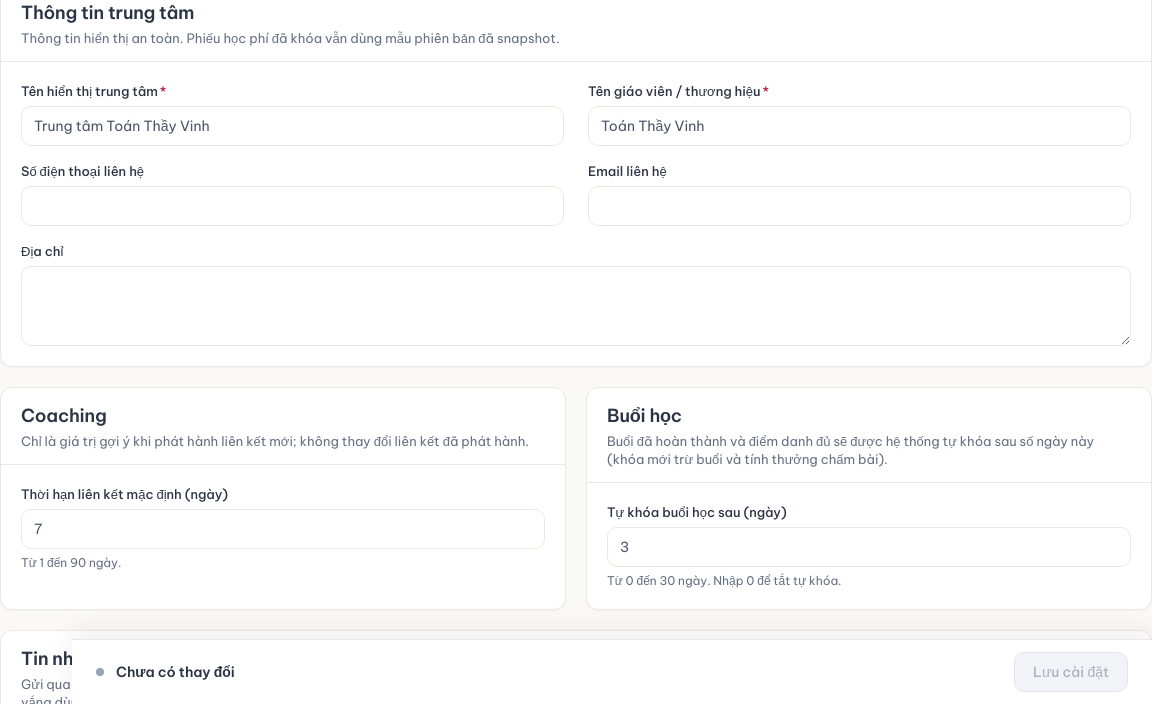
SystemSettingsForm › sends typed safe values and shows the server result
The width and height of the screenshot is (1152, 704).
Replace the text in the field labelled "Tên hiển thị trung tâm" with "Trung tâm QA" at (292, 126), box left=21, top=106, right=564, bottom=146
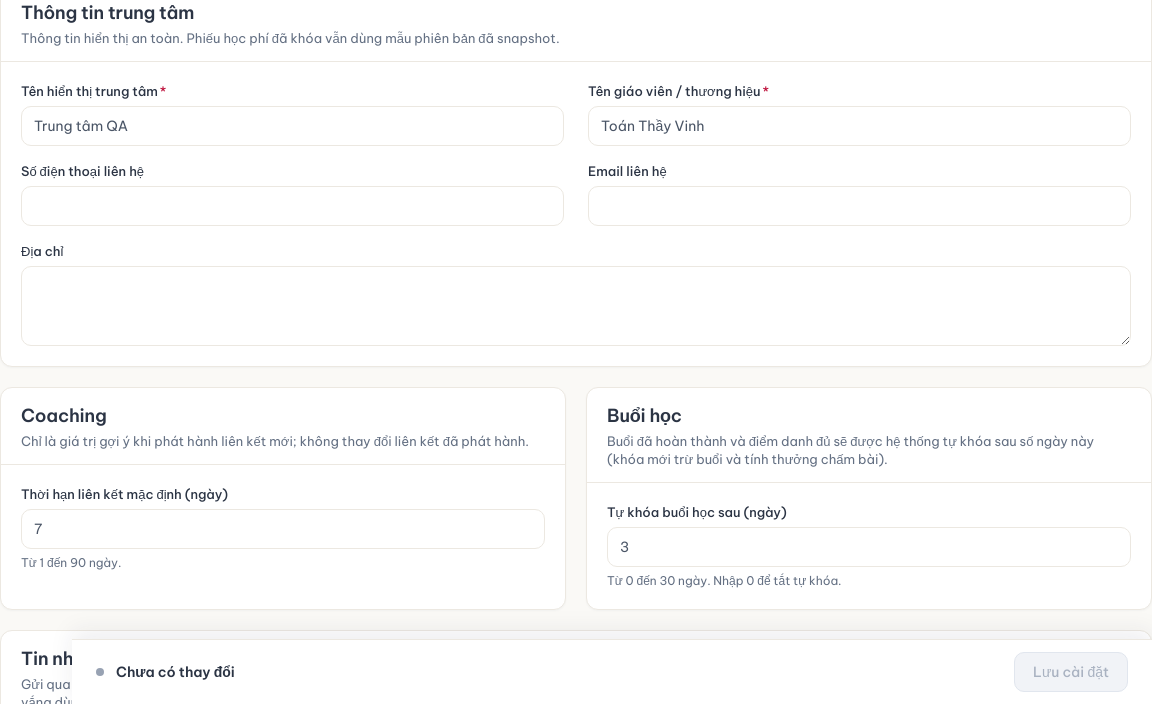
Replace the text in the number field labelled "Thời hạn liên kết mặc định (ngày)" with "14" at (283, 529), box left=21, top=509, right=545, bottom=549
(page scrolled)
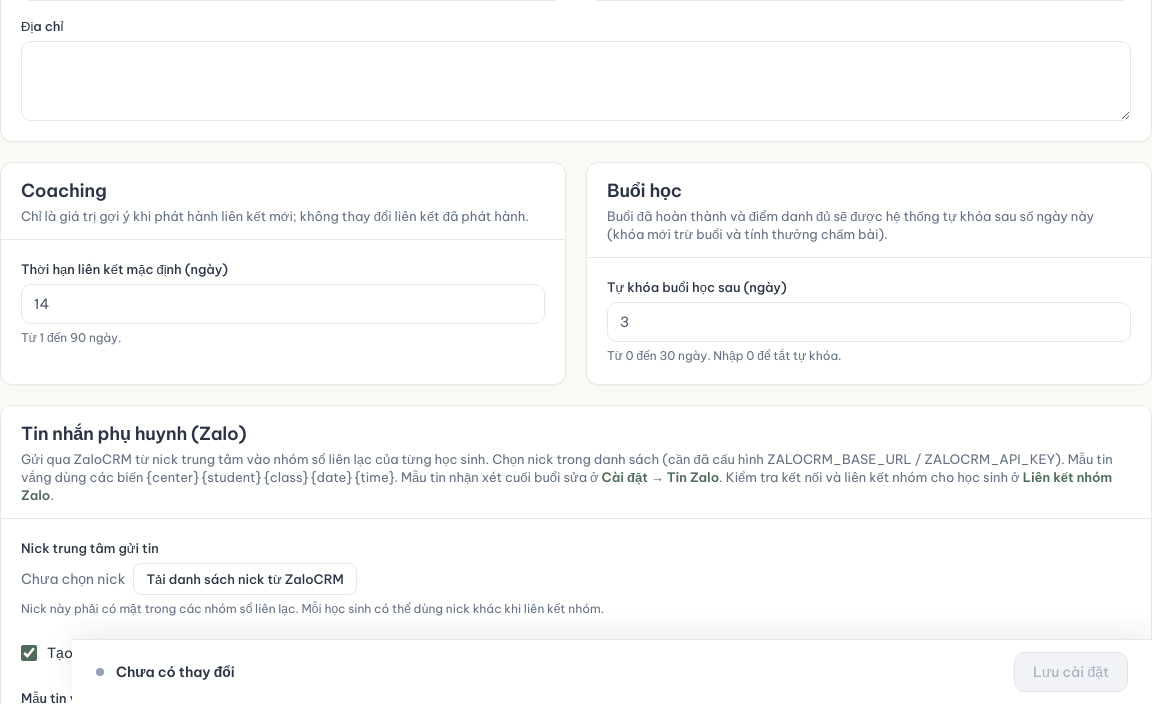
Submit the form "Lưu cài đặt", box left=72, top=639, right=1151, bottom=703
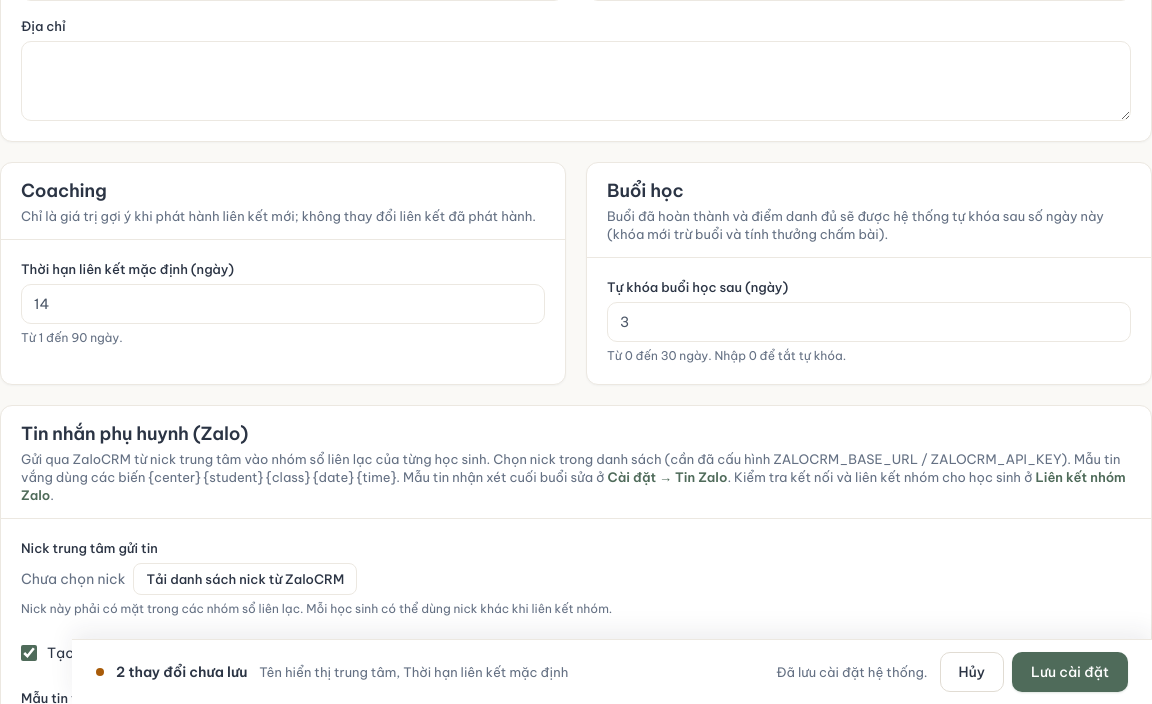
Result: the message reads "Đã lưu cài đặt hệ thống." at left=776, top=664, right=928, bottom=680
